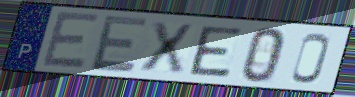0: (239, 26, 286, 84), (290, 32, 333, 85)
E: (88, 13, 151, 74), (39, 9, 102, 70), (188, 25, 245, 80)
X: (137, 20, 195, 74)
